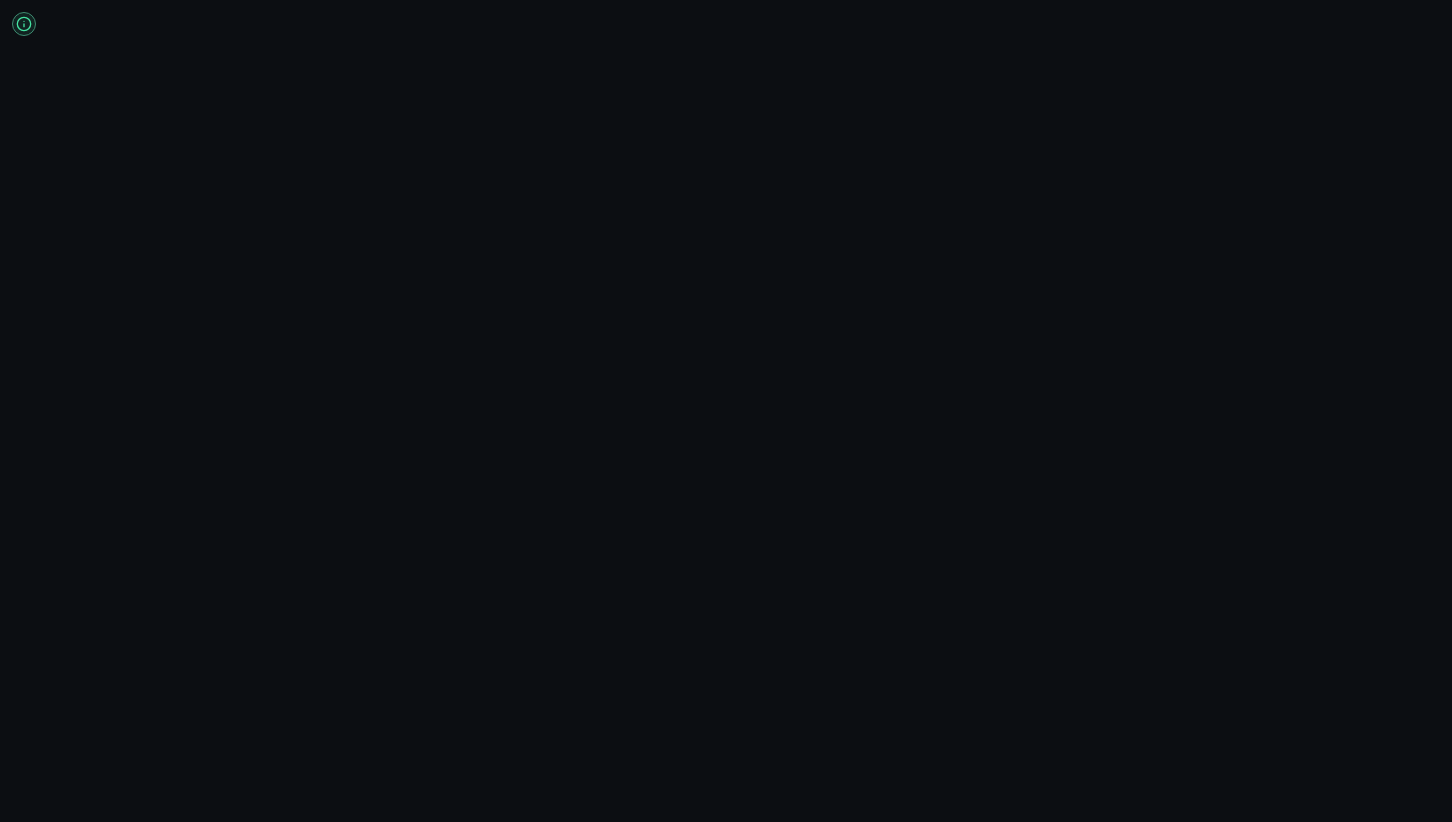
Test case: the «i» with an explanation › a pinned card goes with a click elsewhere, Escape, or another click on the «i»
Step 1. Click the button named "Чем отличаются кодеки" → (24, 24), box x1=12 y1=12 x2=36 y2=36
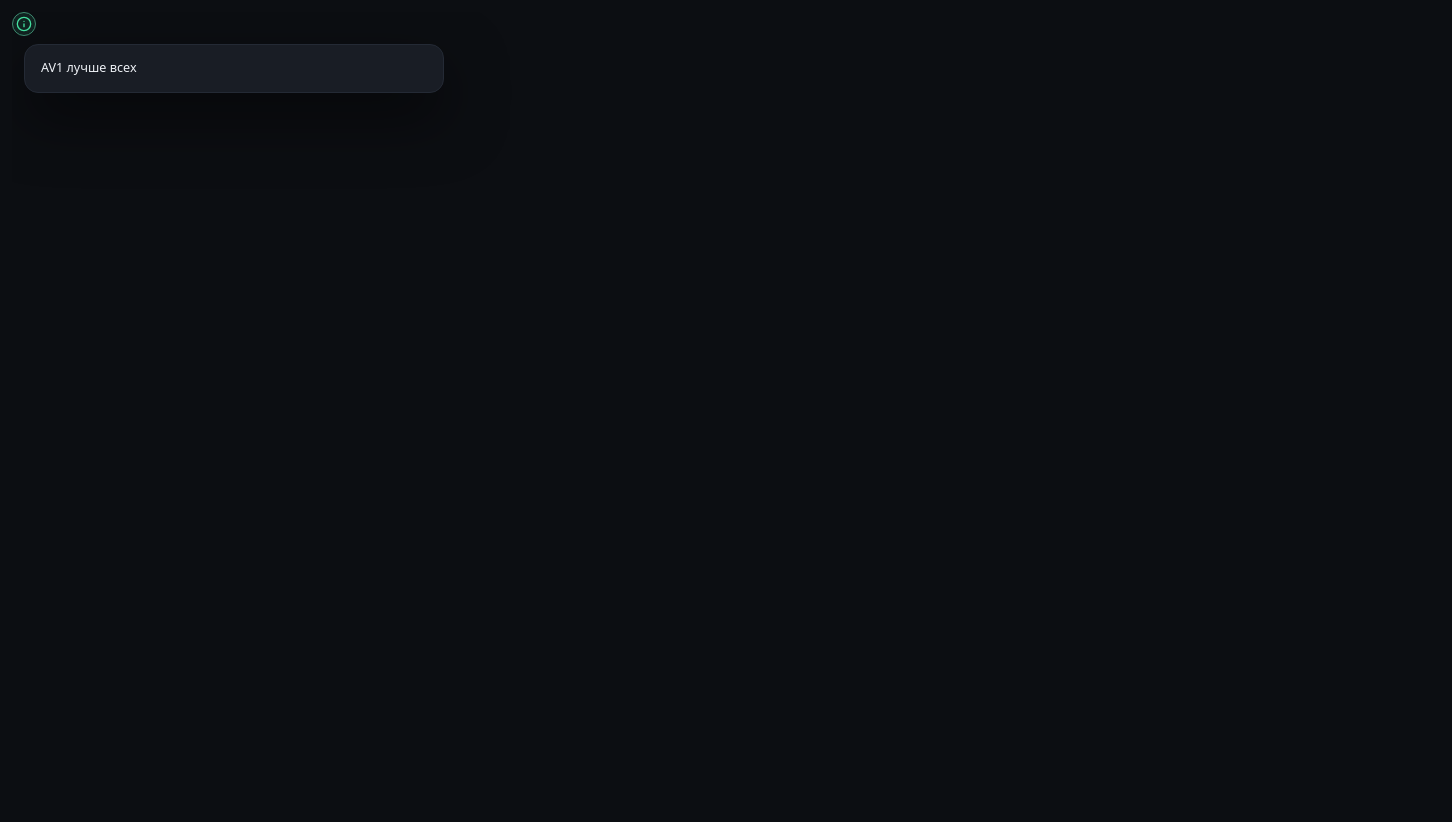
Step 2. Press the mouse on the element showing "AV1 лучше всех" → (732, 417), box x1=12 y1=12 x2=1451 y2=821
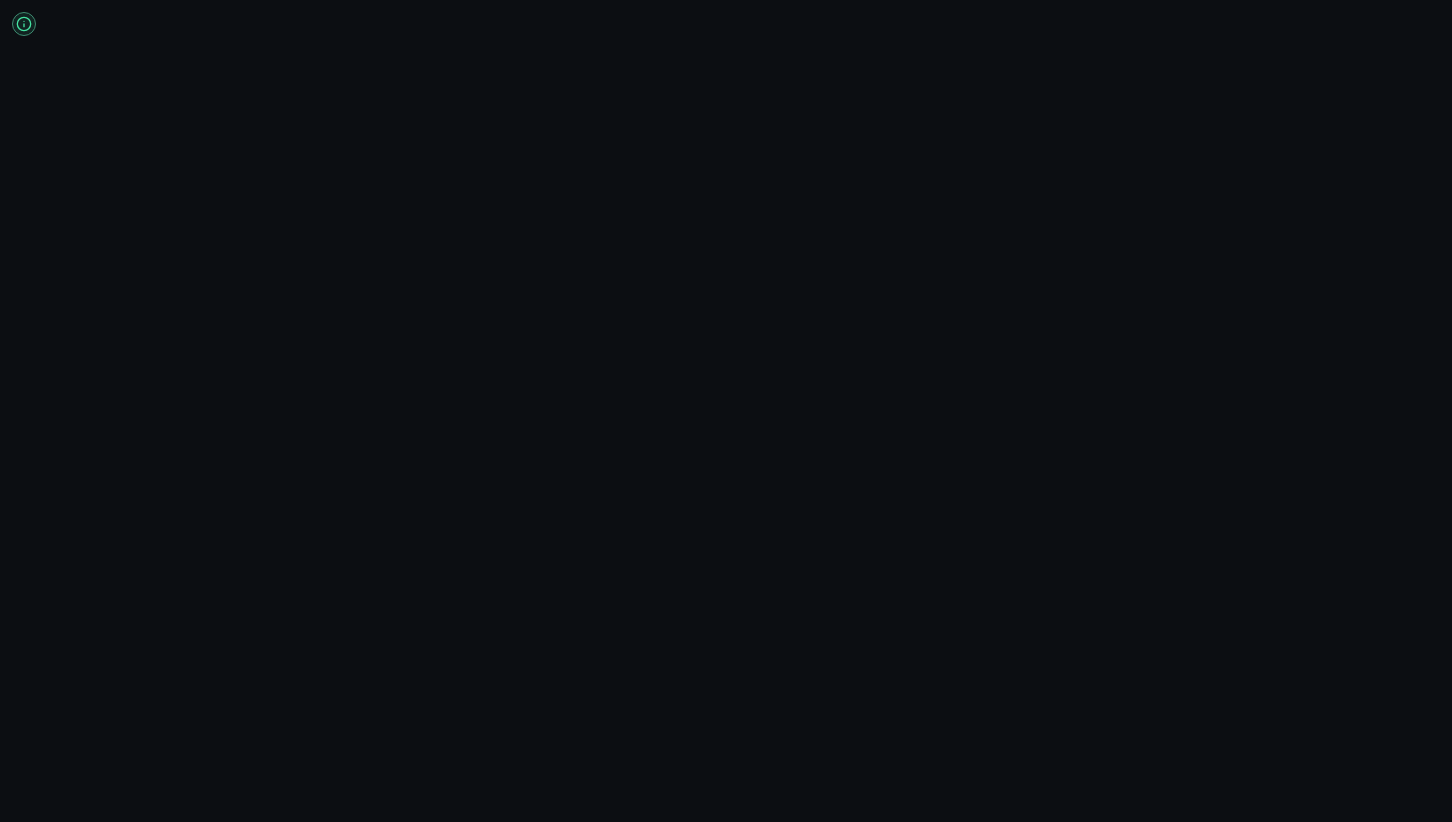
Expected: the tooltip "AV1 лучше всех" is gone
Step 3. Click the button named "Чем отличаются кодеки" → (24, 24), box x1=12 y1=12 x2=36 y2=36
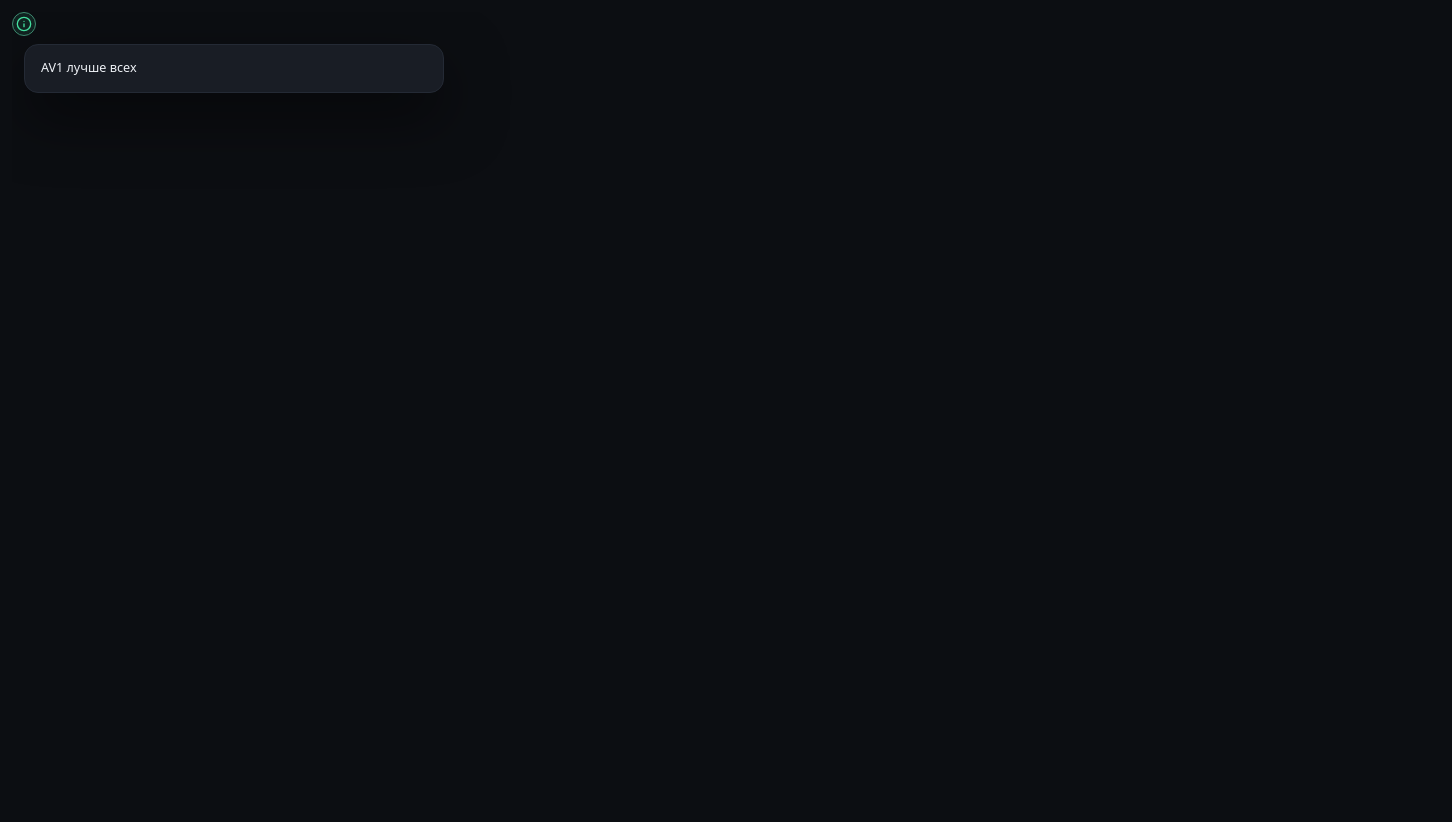
Step 4. Press Escape
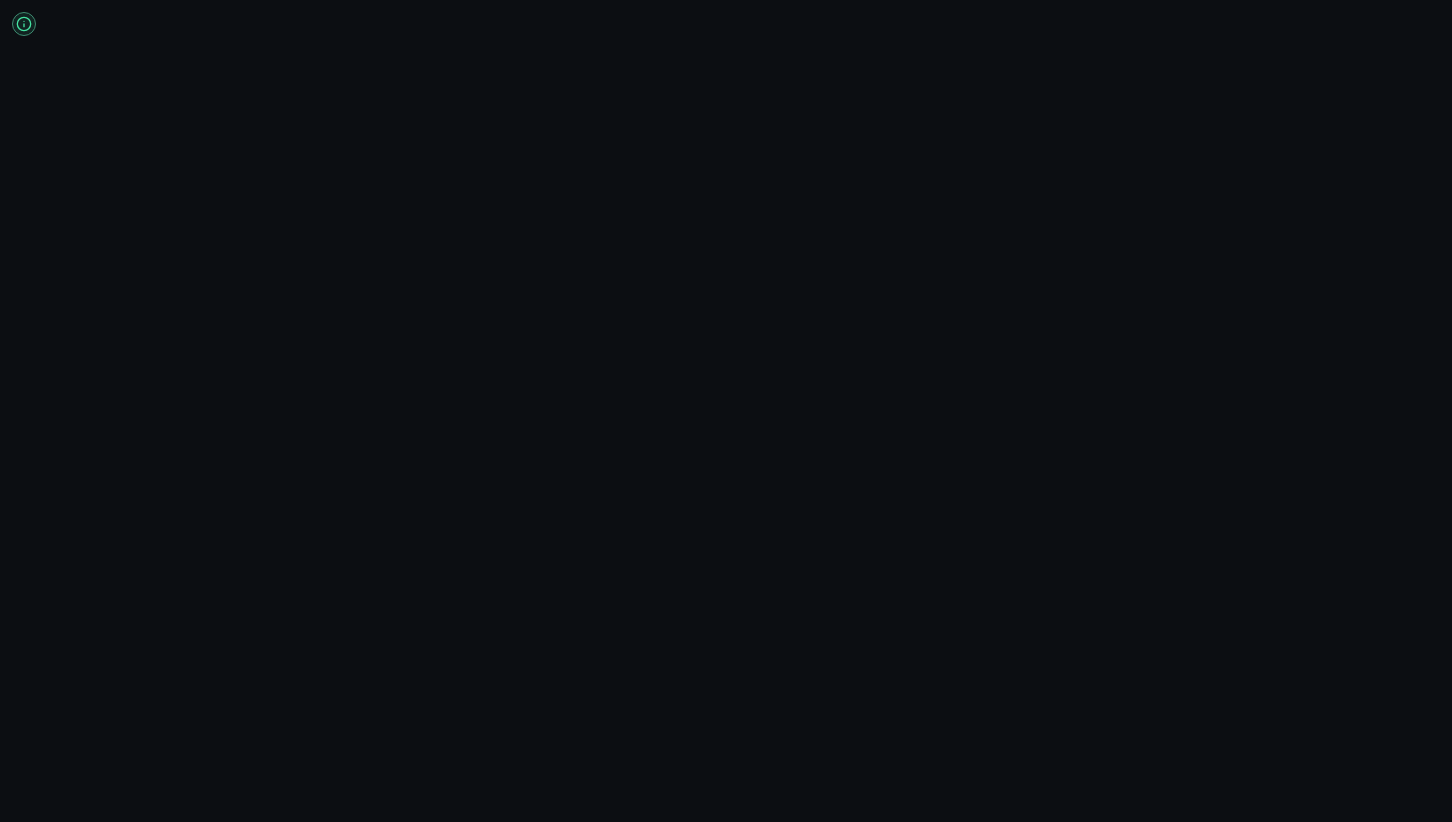
Expected: the tooltip "AV1 лучше всех" is gone
Step 5. Click the button named "Чем отличаются кодеки" → (24, 24), box x1=12 y1=12 x2=36 y2=36
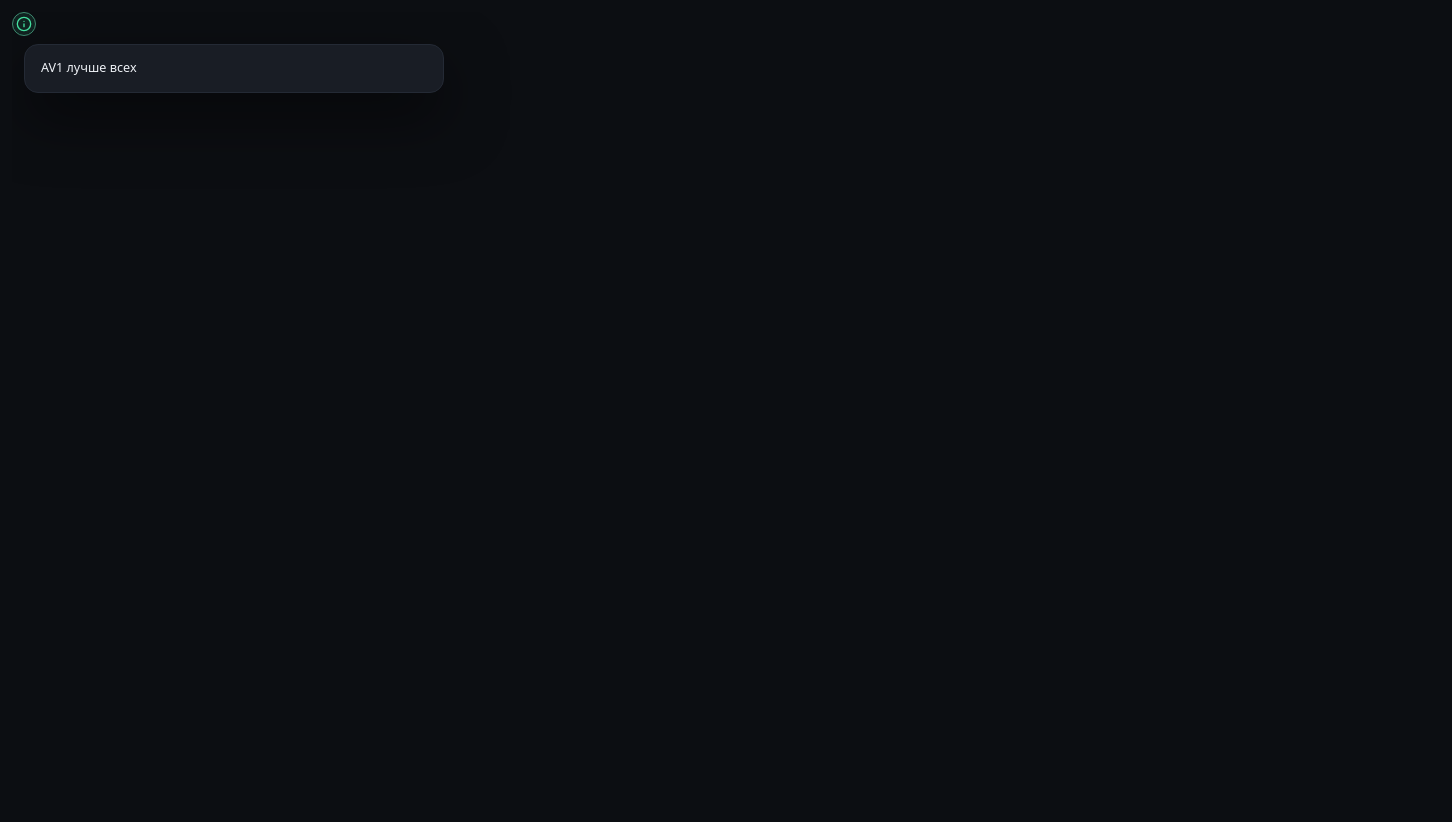
Step 6. Click the button named "Чем отличаются кодеки" → (24, 24), box x1=12 y1=12 x2=36 y2=36
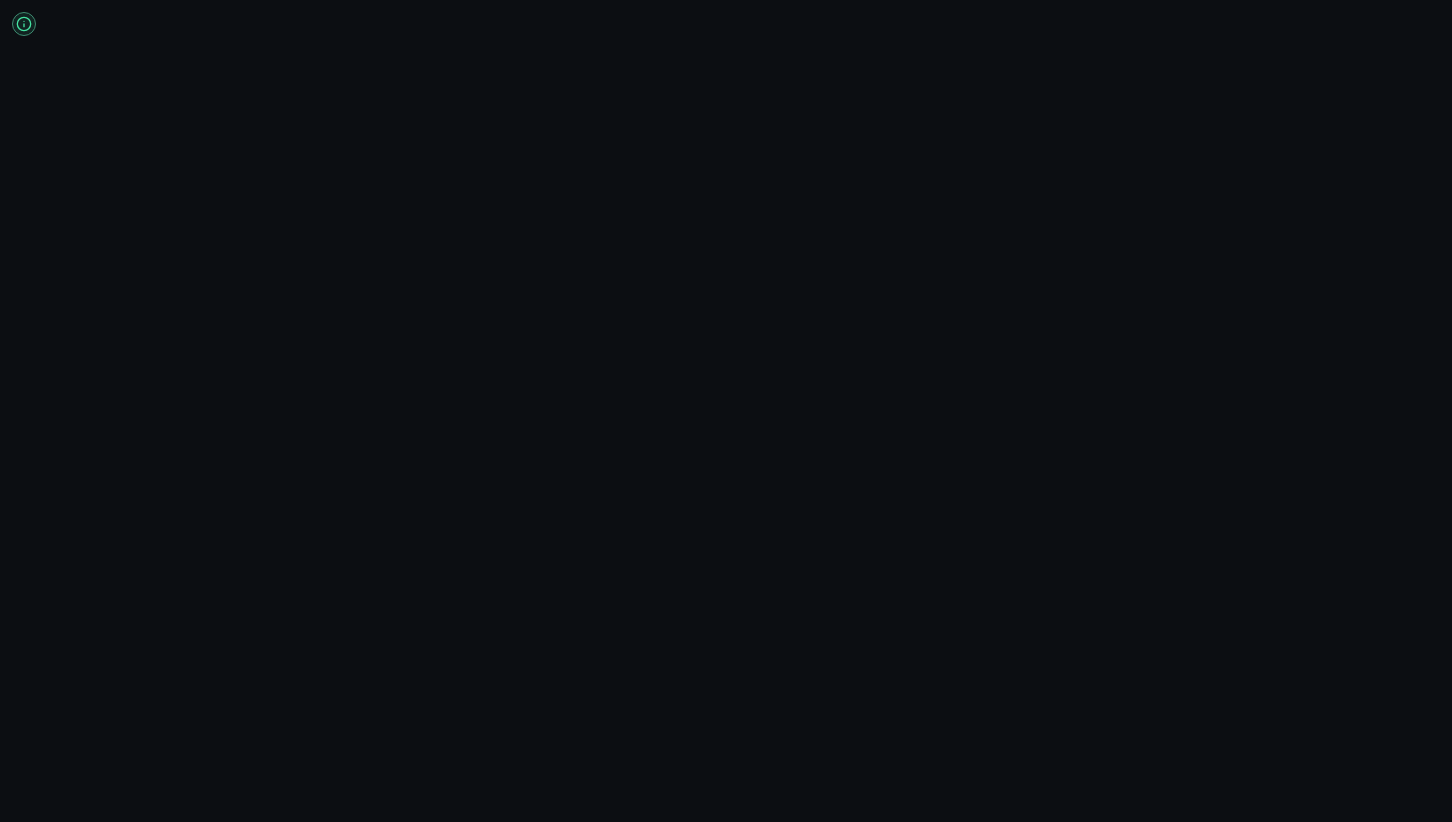
Expected: the tooltip "AV1 лучше всех" is gone
